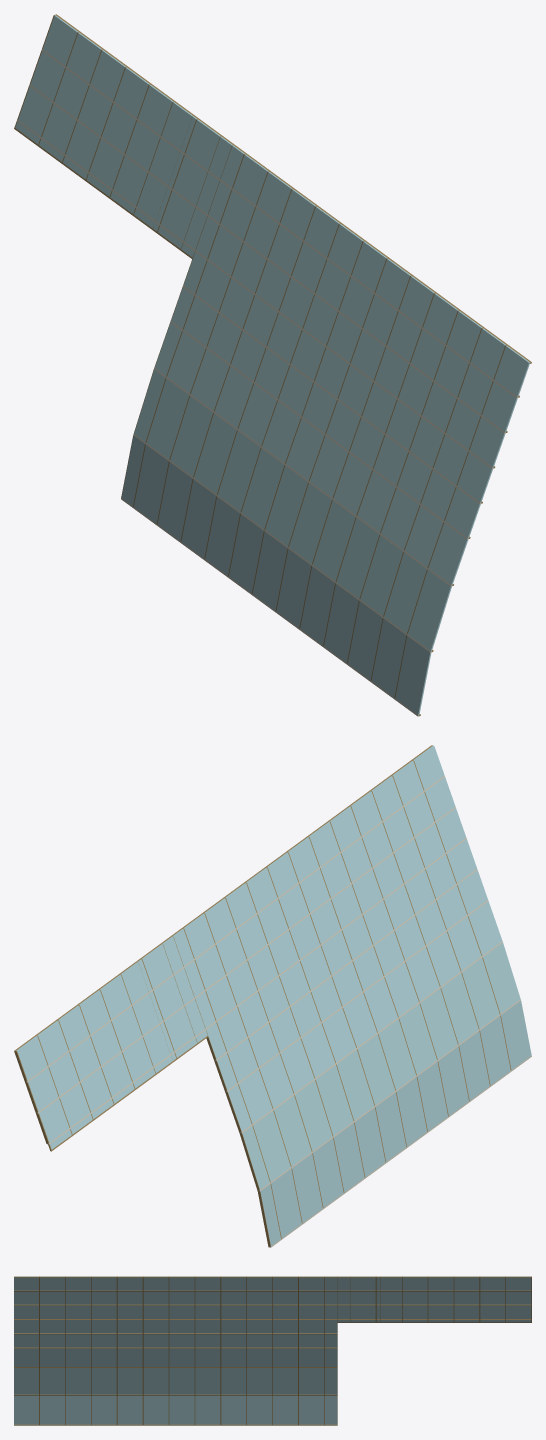
Rendered from G7_Completion_R008_Body_-1_03.glb.
The picture shows the model from 3 angles, top to bottom: view 1: azimuth 30°, elevation 25°; view 2: azimuth 150°, elevation 25°; view 3: azimuth 270°, elevation 25°; orthographic projection. The views are drawn at different scales.
Visible parts, largest first — view 1: Body_-1_03_G7C3_glass_solid_skin, Body_-1_03_G7C3_metal_solid_skin, Body_-1_03_G7C3_shell_solid_skin, Body_-1_03_G7C3_metal_solid_frame; view 2: Body_-1_03_G7C3_glass_solid_skin, Body_-1_03_G7C3_metal_solid_skin, Body_-1_03_G7C3_shell_solid_skin, Body_-1_03_G7C3_metal_solid_frame; view 3: Body_-1_03_G7C3_glass_solid_skin, Body_-1_03_G7C3_metal_solid_frame, Body_-1_03_G7C3_metal_solid_skin.
Part boxes in pixels (box(x1,y1,x2,y2)): Body_-1_03_G7C3_glass_solid_skin: box(15, 15, 530, 715); Body_-1_03_G7C3_metal_solid_skin: box(14, 15, 506, 697); Body_-1_03_G7C3_shell_solid_skin: box(17, 49, 518, 716); Body_-1_03_G7C3_metal_solid_frame: box(55, 14, 531, 716); Body_-1_03_G7C3_glass_solid_skin: box(16, 745, 531, 1245); Body_-1_03_G7C3_metal_solid_skin: box(15, 760, 511, 1246); Body_-1_03_G7C3_shell_solid_skin: box(26, 776, 531, 1247); Body_-1_03_G7C3_metal_solid_frame: box(14, 745, 432, 1247); Body_-1_03_G7C3_glass_solid_skin: box(14, 1276, 531, 1424); Body_-1_03_G7C3_metal_solid_frame: box(14, 1276, 531, 1425); Body_-1_03_G7C3_metal_solid_skin: box(39, 1276, 531, 1322).
Bounding box in the file's own units: 16.63 × 45.5 × 120.
3 materials, 2 textured.
